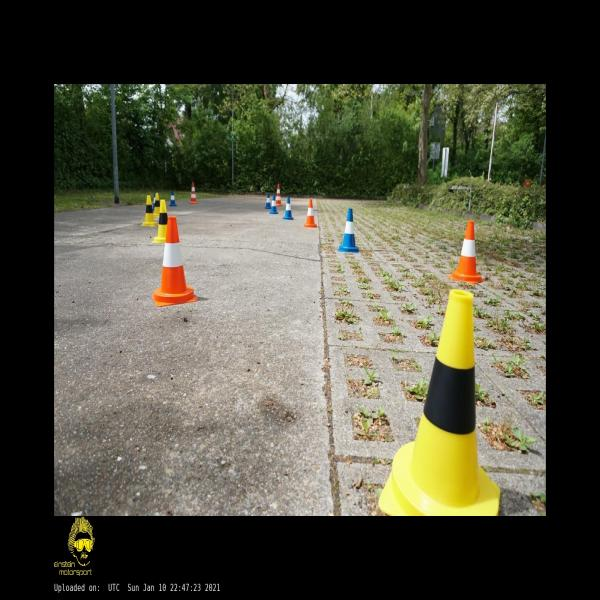blue_cone: (338, 208, 359, 252), (283, 196, 294, 220), (269, 194, 279, 214), (169, 191, 177, 206), (264, 193, 271, 209), (152, 191, 156, 210)
large_orange_cone: (189, 182, 198, 204), (276, 184, 283, 206)
orange_cone: (152, 217, 198, 307), (448, 221, 486, 284), (303, 199, 319, 228)
yellow_cone: (378, 290, 501, 515), (152, 200, 167, 242), (140, 194, 158, 227), (153, 192, 160, 217)
